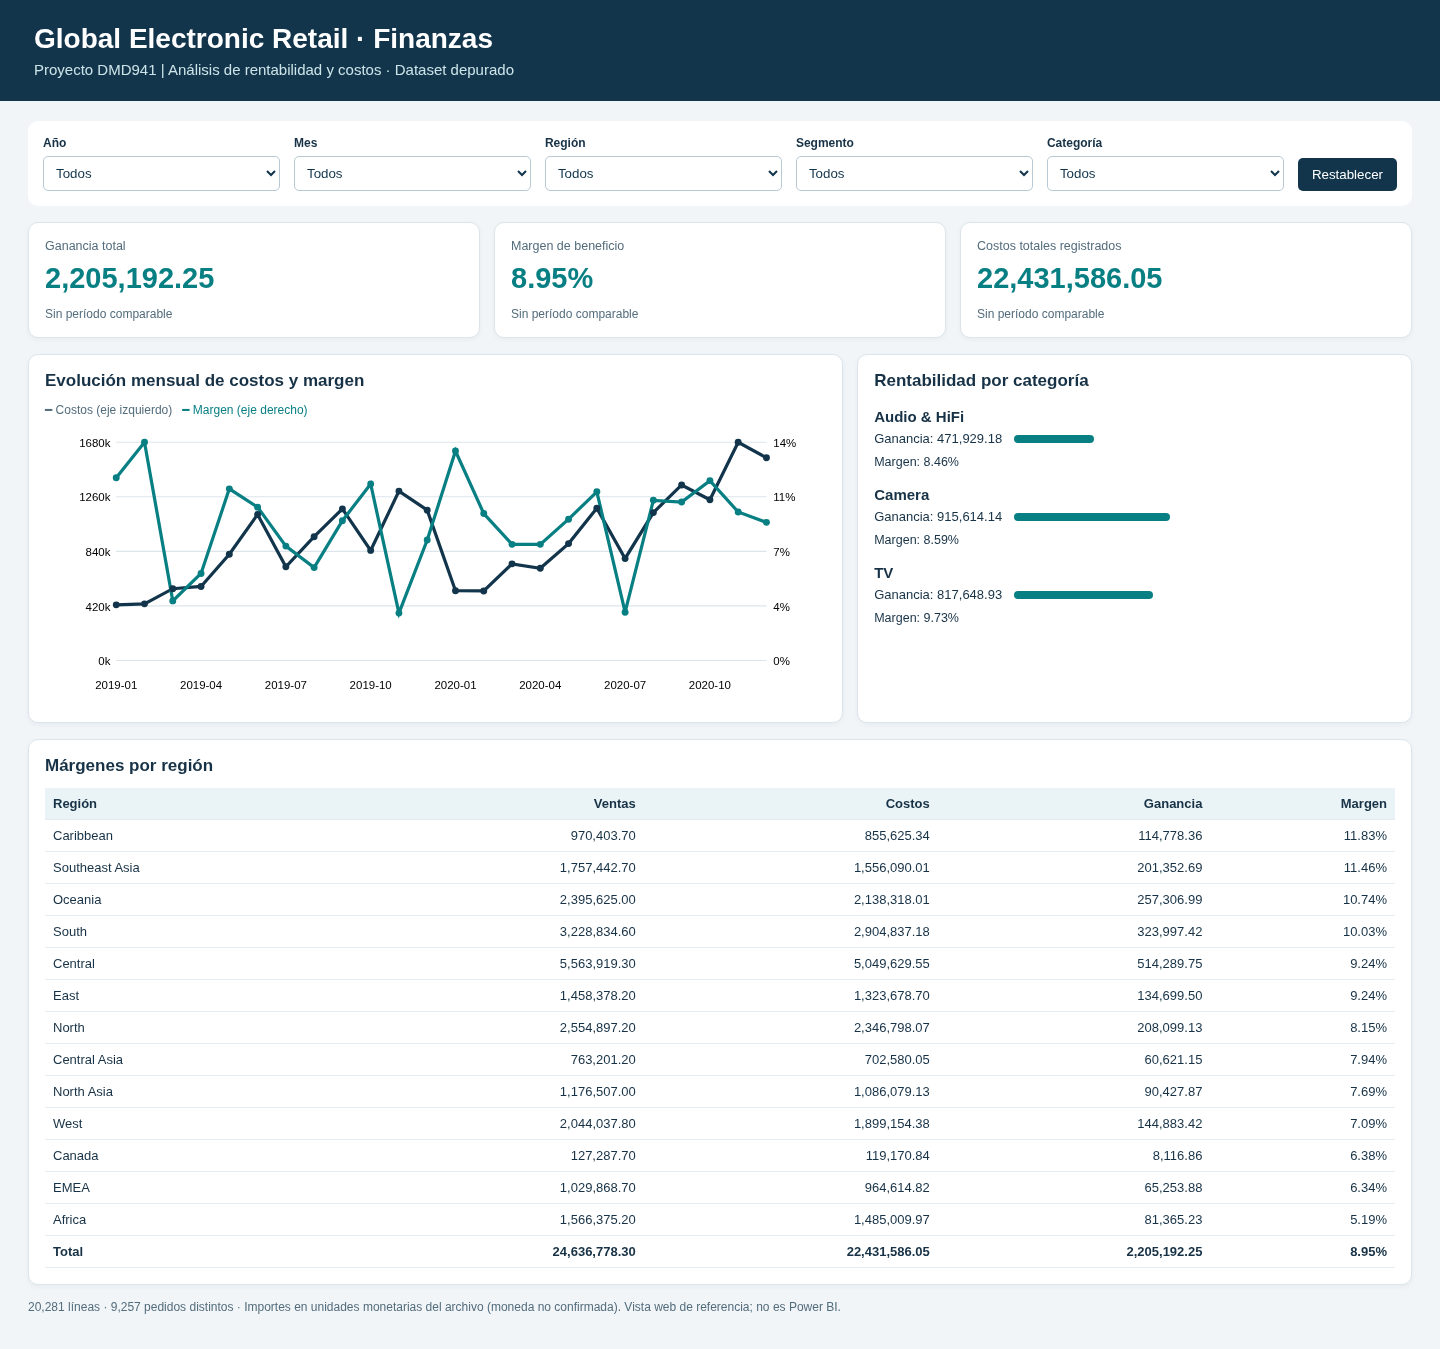

Layout of this report page (visuals, bound fields, positions):
{"tool":"powerbi","page":{"name":"Finanzas","canvas":[1440,900],"ordinal":1},"visuals":[{"type":"card","title":"Ganancia total","fields":{"Values":["fact_ventas_finanzas.Ganancia total"]},"box":[24,166,440,110],"z":100},{"type":"card","title":"Margen de beneficio","fields":{"Values":["fact_ventas_finanzas.Margen de beneficio"]},"box":[484,166,440,110],"z":100},{"type":"card","title":"Costos totales registrados","fields":{"Values":["fact_ventas_finanzas.Costos totales registrados"]},"box":[944,166,440,110],"z":100},{"type":"slicer","title":"Año","fields":{"Values":["dim_tiempo.anio"]},"box":[24,86,260,64],"z":200},{"type":"slicer","title":"Periodo","fields":{"Values":["dim_tiempo.Periodo"]},"box":[294,86,260,64],"z":200},{"type":"slicer","title":"Región","fields":{"Values":["dim_ubicacion.region"]},"box":[564,86,260,64],"z":200},{"type":"slicer","title":"Segmento","fields":{"Values":["dim_cliente.segment"]},"box":[834,86,260,64],"z":200},{"type":"slicer","title":"Categoría","fields":{"Values":["dim_producto.category"]},"box":[1104,86,260,64],"z":200},{"type":"lineStackedColumnComboChart","title":"Evolución mensual de costos y margen","fields":{"Category":["dim_tiempo.Periodo"],"Y":["fact_ventas_finanzas.Costos totales registrados"],"Y2":["fact_ventas_finanzas.Margen de beneficio"]},"box":[24,300,880,280],"z":300},{"type":"lineStackedColumnComboChart","title":"Rentabilidad por categoría","fields":{"Category":["dim_producto.category"],"Y":["fact_ventas_finanzas.Ganancia total"],"Y2":["fact_ventas_finanzas.Margen de beneficio"]},"box":[920,300,496,280],"z":300},{"type":"pivotTable","title":"Márgenes por región","fields":{"Rows":["dim_ubicacion.region"],"Values":["fact_ventas_finanzas.Ventas totales","fact_ventas_finanzas.Costos totales registrados","fact_ventas_finanzas.Ganancia total","fact_ventas_finanzas.Margen de beneficio"]},"box":[24,594,1392,268],"z":400},{"type":"textbox","box":[24,10,900,66],"z":1000},{"type":"textbox","box":[24,872,1000,20],"z":9000},{"type":"pageNavigator","box":[1100,16,316,44],"z":15000}]}

Visuals, with their boxes on the page's 1440x900 design canvas (x1, y1, x2, y2). These are canvas units, not pixel positions in the 1440x1349 screenshot, which may show the page scaled, cropped or inside an application window:
"Ganancia total" card: [24, 166, 464, 276]
"Margen de beneficio" card: [484, 166, 924, 276]
"Costos totales registrados" card: [944, 166, 1384, 276]
"Año" slicer: [24, 86, 284, 150]
"Periodo" slicer: [294, 86, 554, 150]
"Región" slicer: [564, 86, 824, 150]
"Segmento" slicer: [834, 86, 1094, 150]
"Categoría" slicer: [1104, 86, 1364, 150]
"Evolución mensual de costos y margen" lineStackedColumnComboChart: [24, 300, 904, 580]
"Rentabilidad por categoría" lineStackedColumnComboChart: [920, 300, 1416, 580]
"Márgenes por región" pivotTable: [24, 594, 1416, 862]
textbox: [24, 10, 924, 76]
textbox: [24, 872, 1024, 892]
pageNavigator: [1100, 16, 1416, 60]
